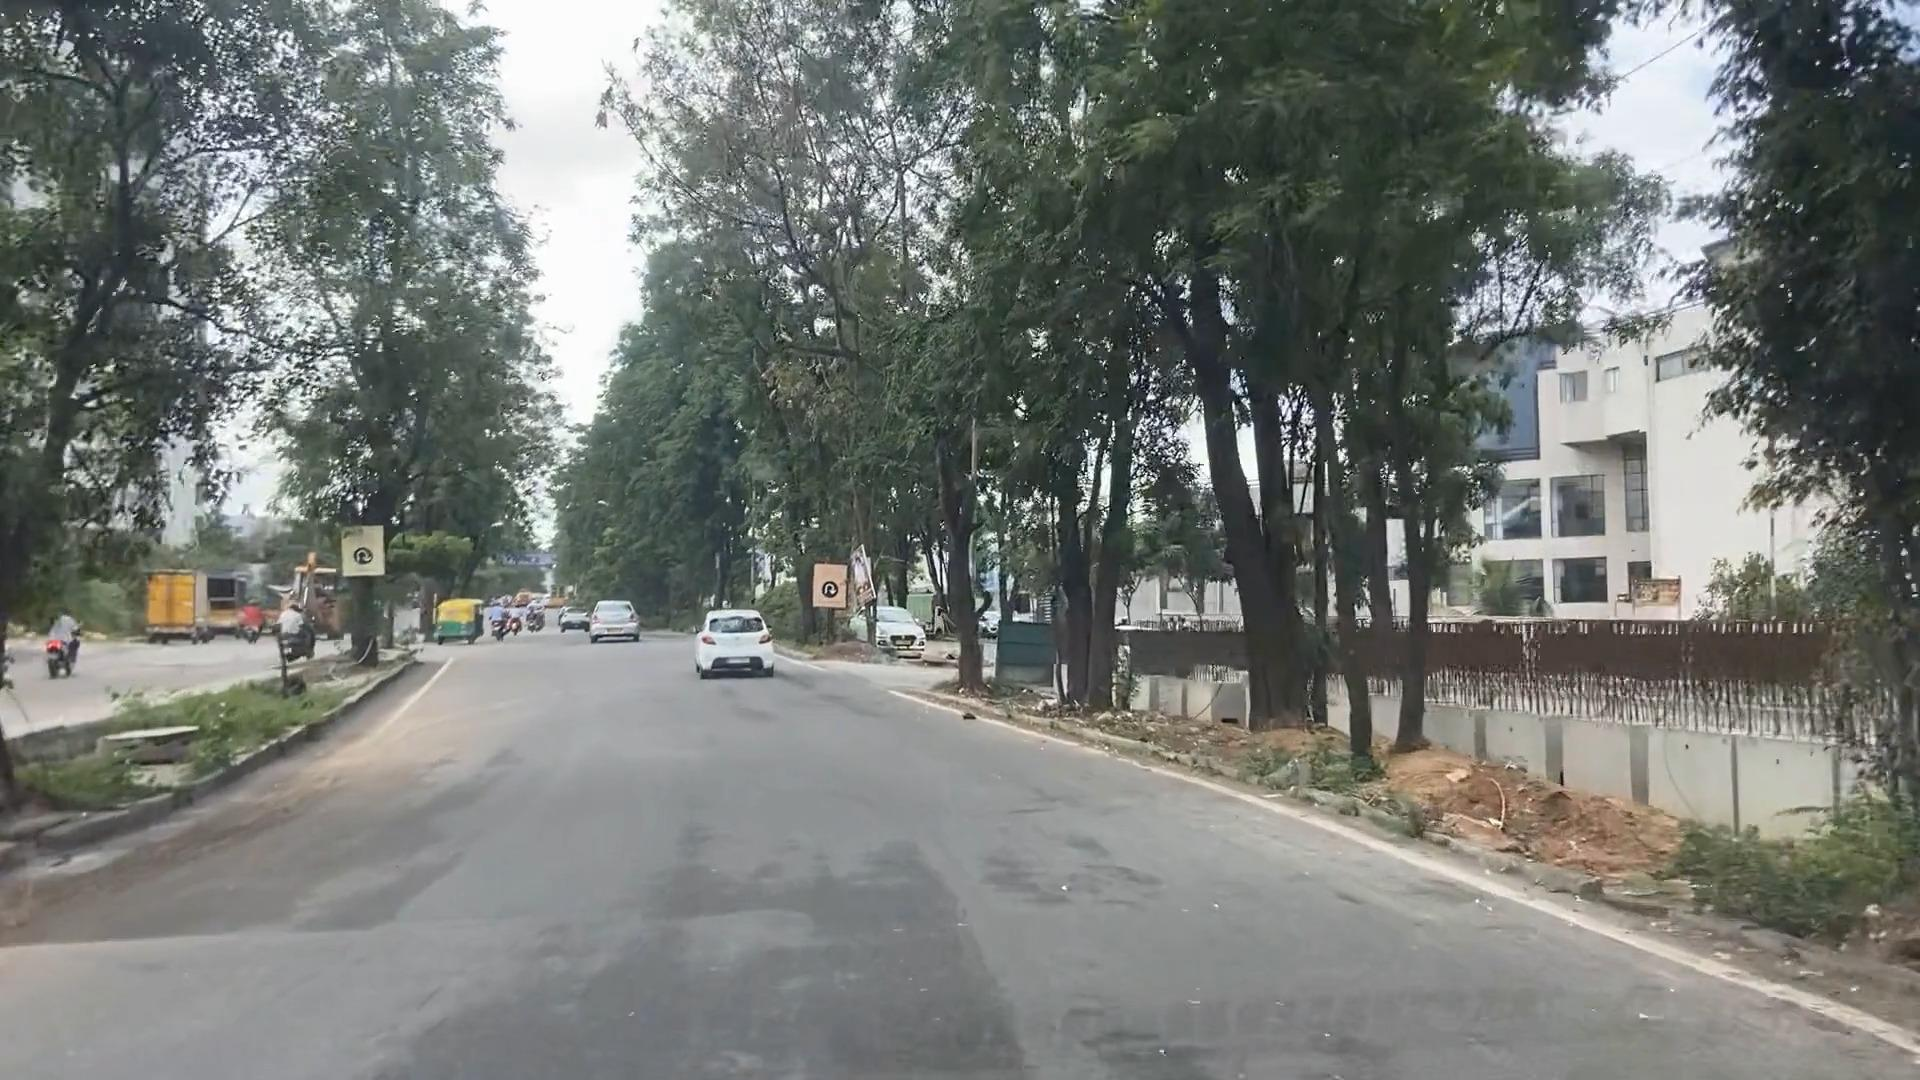LMV: (700, 610, 771, 676), (588, 604, 640, 642)
RoadDamages: (450, 990, 696, 1080), (738, 972, 883, 1080), (784, 846, 964, 927), (908, 938, 1013, 1070), (1042, 994, 1210, 1075), (1000, 816, 1146, 909), (286, 860, 485, 925), (170, 812, 267, 940), (636, 818, 758, 905), (362, 756, 502, 830), (34, 882, 165, 958)
